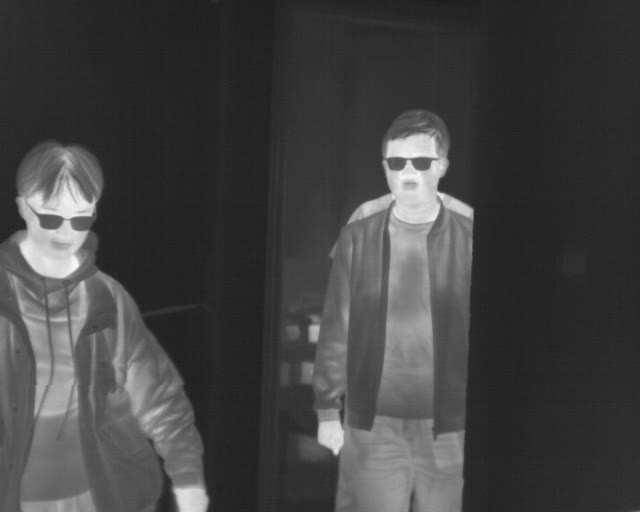face: (14, 139, 103, 261), (381, 112, 450, 210)
